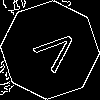V: (25, 25, 82, 80)
